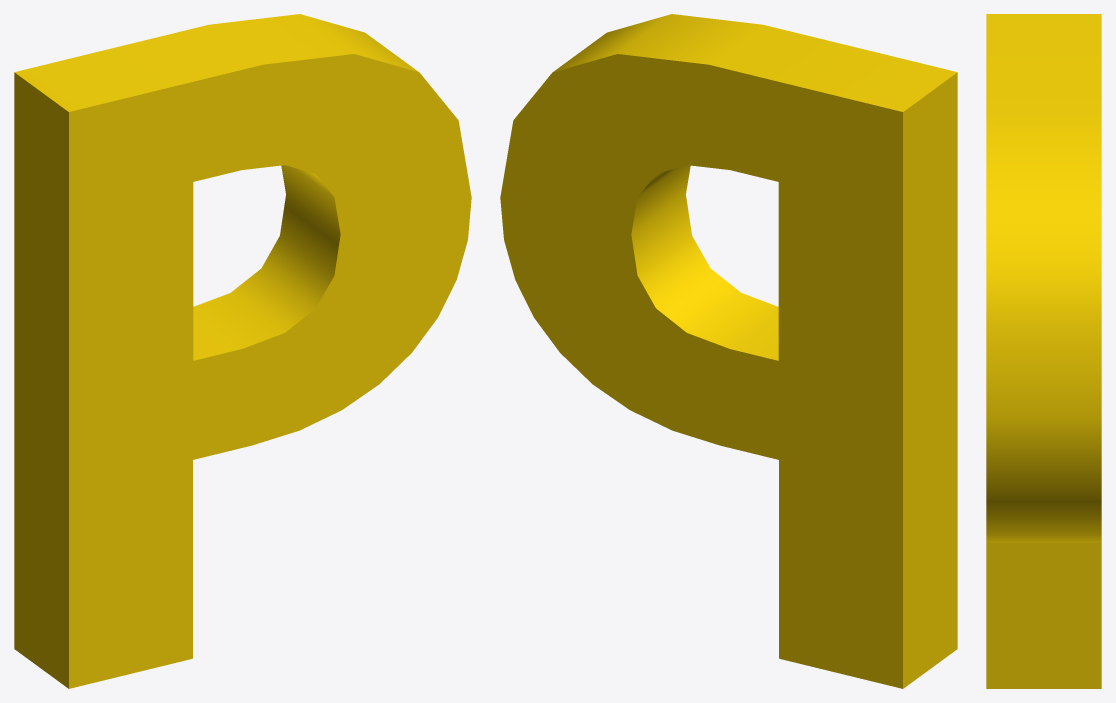
File: Parking P.fbx
3 views of the same model, side by side, from view 1: azimuth 30°, elevation 25°; view 2: azimuth 150°, elevation 25°; view 3: azimuth 270°, elevation 25° (orthographic). The views are drawn at different scales.
Visible parts, largest first — view 1: Parking_P; view 2: Parking_P; view 3: Parking_P.
Part boxes in pixels (box(x1,y1,x2,y2)): Parking_P: box(14, 14, 471, 688); Parking_P: box(500, 14, 957, 688); Parking_P: box(986, 14, 1101, 688).
Bounding box in the file's own units: 37.67 × 51.55 × 8.84.
